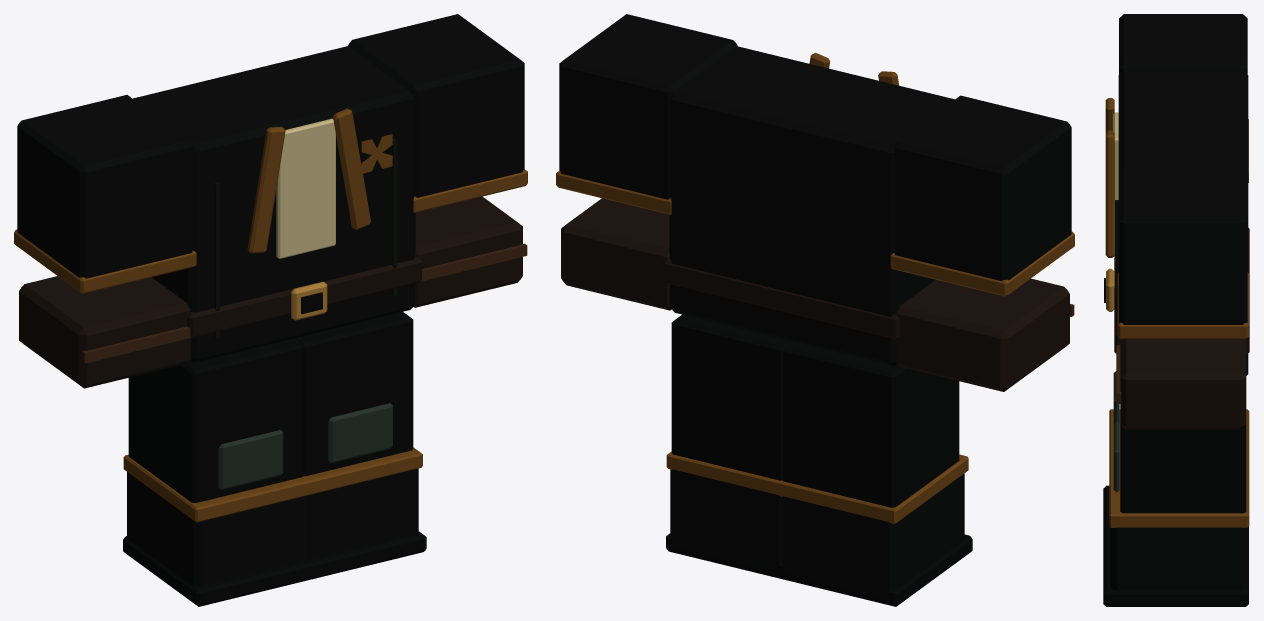
The model's file is outfit-ink-knight-v1.gltf.
The picture shows the model from 3 angles, left to right: view 1: azimuth 30°, elevation 25°; view 2: azimuth 150°, elevation 25°; view 3: azimuth 270°, elevation 25°; orthographic projection. The views are drawn at different scales.
Parts seen in each view (by area): view 1: Torso, Left Arm, Left Leg, Right Arm, Right Leg; view 2: Torso, Left Arm, Left Leg, Right Arm, Right Leg; view 3: Right Arm, Right Leg, Torso, Left Arm, Left Leg.
Boxes of the visible parts, <box> form: Torso: <box>133,46,422,362</box>; Left Arm: <box>14,95,196,388</box>; Left Leg: <box>123,338,315,606</box>; Right Arm: <box>348,14,527,307</box>; Right Leg: <box>293,312,426,579</box>; Torso: <box>664,46,954,365</box>; Left Arm: <box>890,95,1074,391</box>; Left Leg: <box>777,341,972,606</box>; Right Arm: <box>556,14,737,310</box>; Right Leg: <box>666,314,792,579</box>; Right Arm: <box>1116,168,1248,429</box>; Right Leg: <box>1103,421,1249,606</box>; Torso: <box>1104,70,1249,375</box>; Left Arm: <box>1119,14,1248,182</box>; Left Leg: <box>1103,371,1249,538</box>.
Bounding box in the file's own units: 4.09 × 4.01 × 1.21.
1 material, 1 textured.
